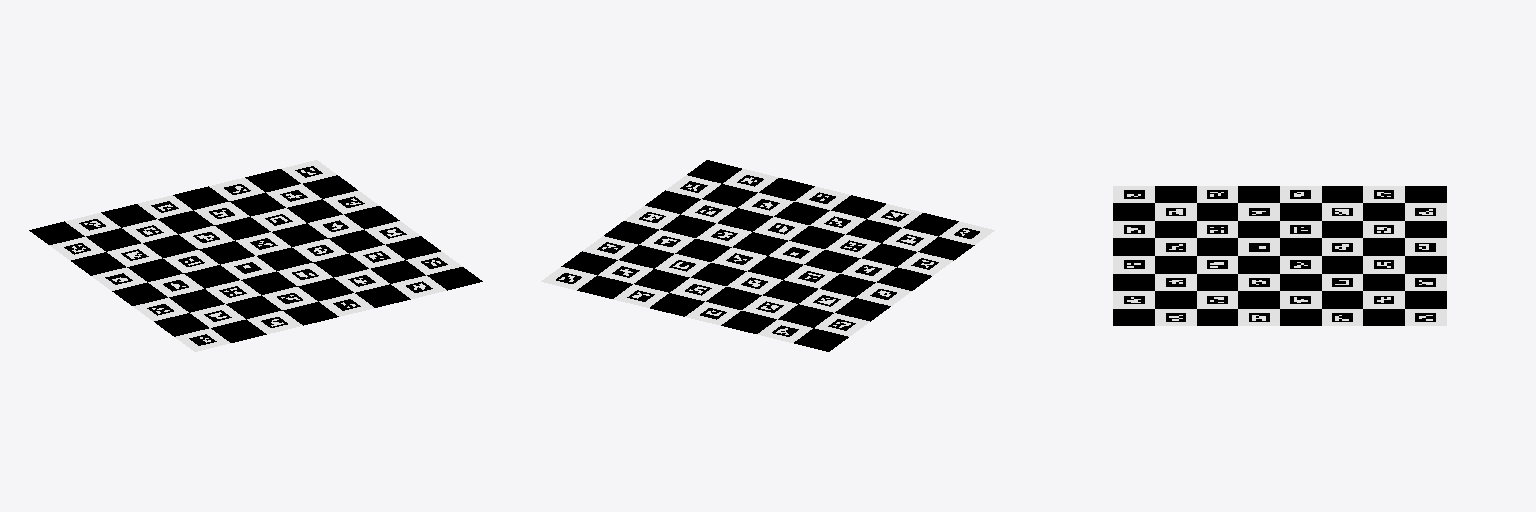
3 renders of one model, left to right at view 1: azimuth 30°, elevation 25°; view 2: azimuth 150°, elevation 25°; view 3: azimuth 270°, elevation 25°, orthographic.
Visible parts, largest first — view 1: Plane; view 2: Plane; view 3: Plane.
Boxes of the visible parts, <box> form: Plane: <box>29,160,482,351</box>; Plane: <box>541,160,994,351</box>; Plane: <box>1113,186,1446,325</box>.
Bounding box in the file's own units: 2 × 0 × 2.
Materials: 1 (1 with a texture image).